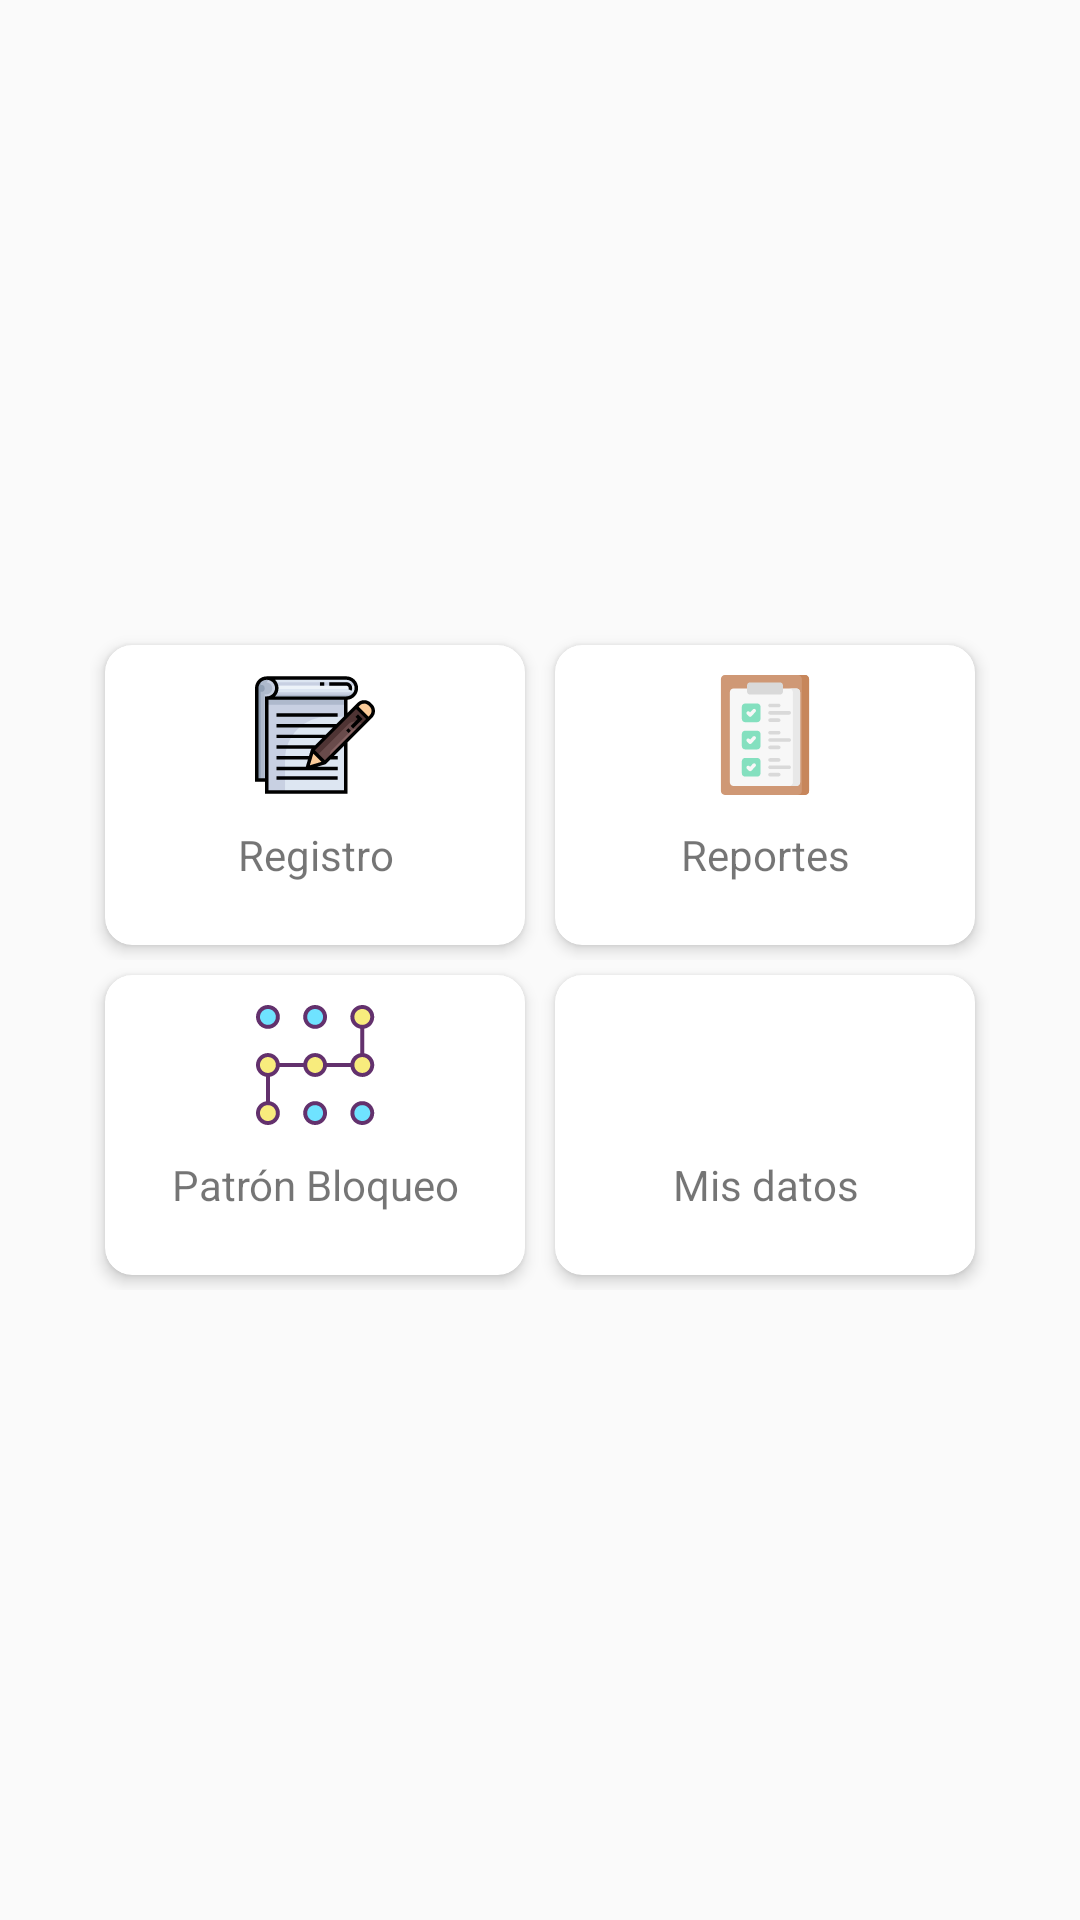

Screen size 1080*1920. Icon name, then its center in pixels as (x,y):
nota: (315,735)
patron: (315,1065)
